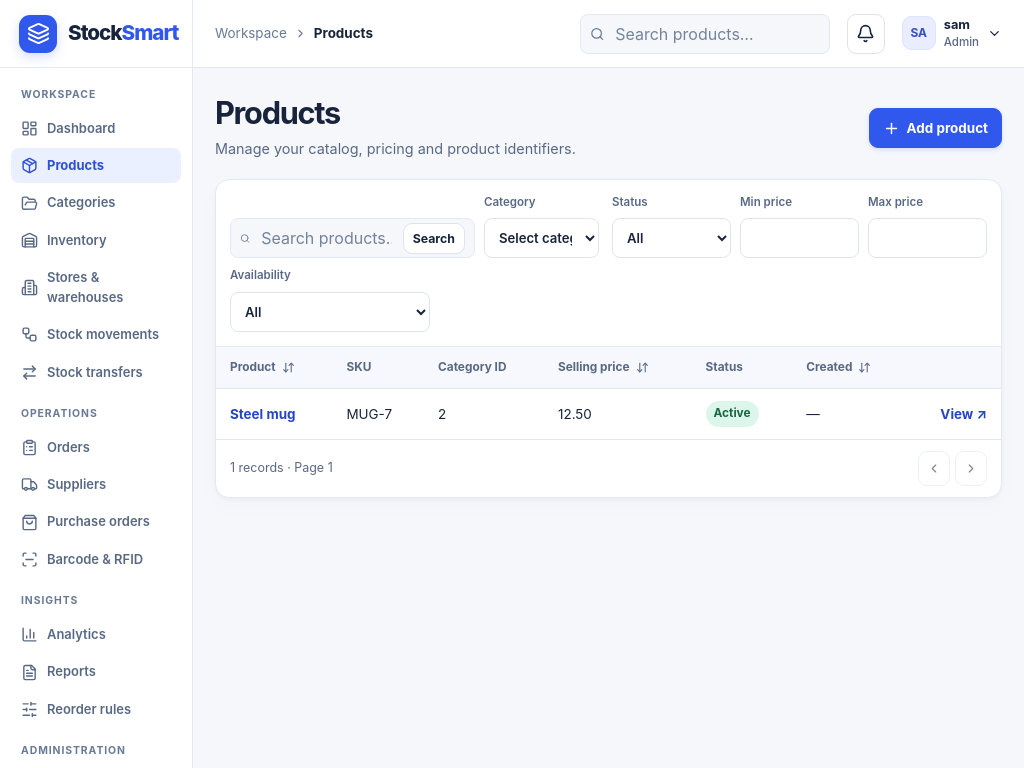
Test: validates and creates a product using decimal strings and the selected category
The image size is (1024, 768).
Later steps or results of the test are not shown.
Click the button "Add product".
click(935, 128)  # box [869,108,1002,148]
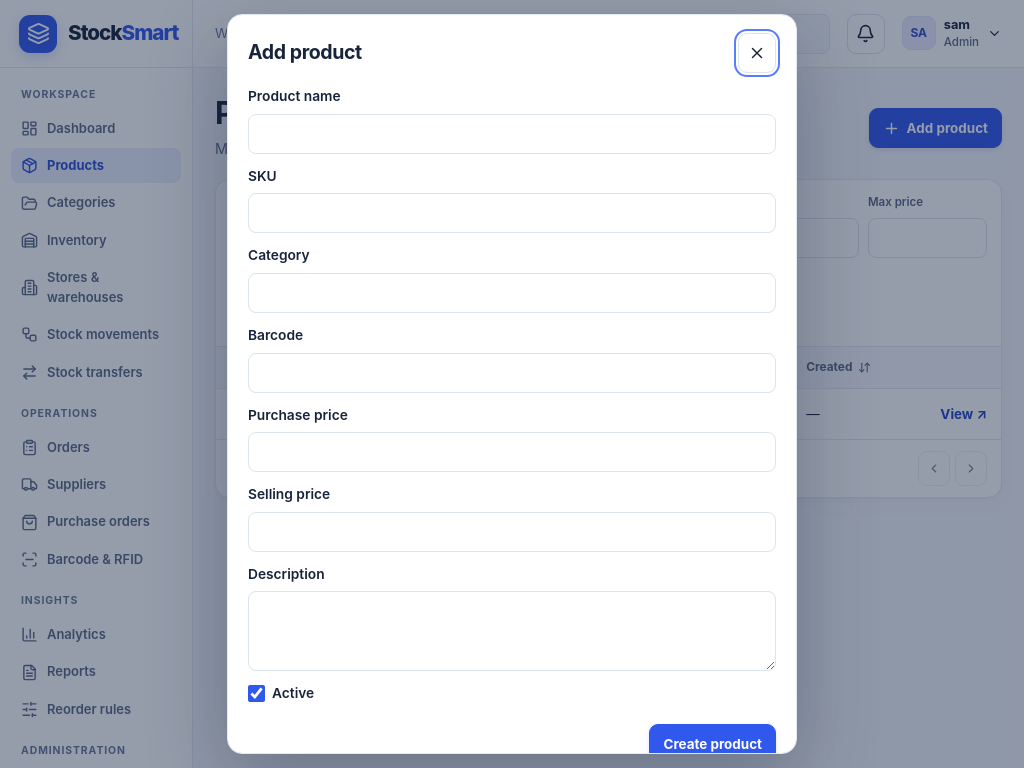
Click the button "Create product".
click(713, 744)  # box [650,724,776,764]
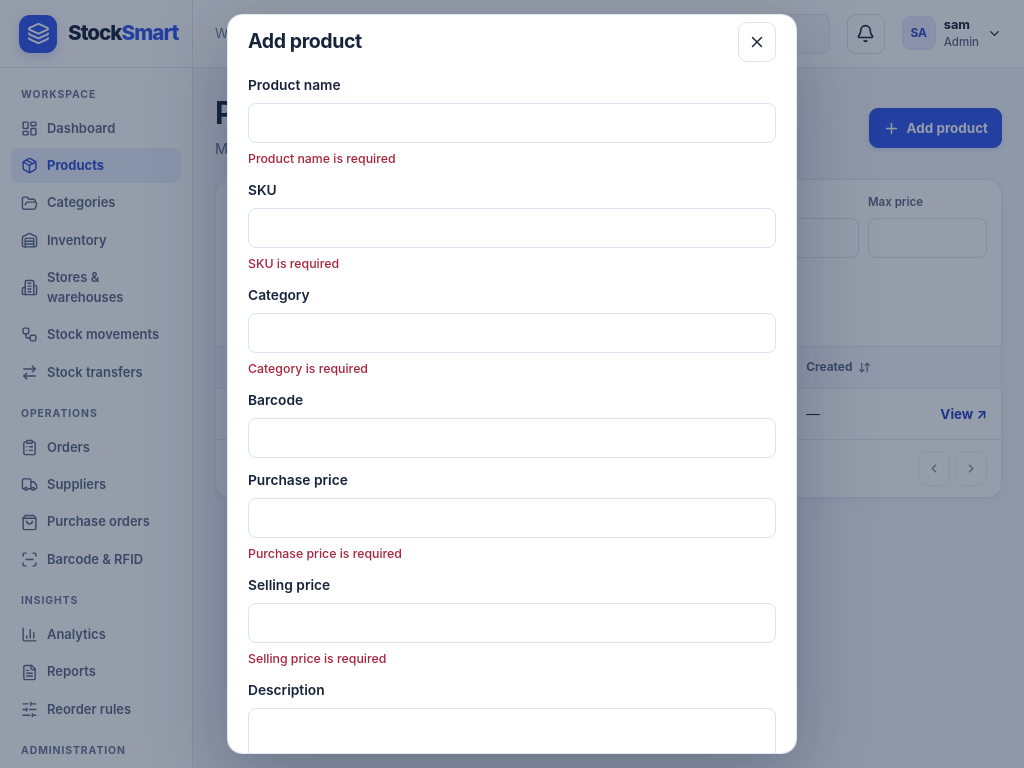
Expected: the text "Product name is required" is shown, [248,151,396,166]
